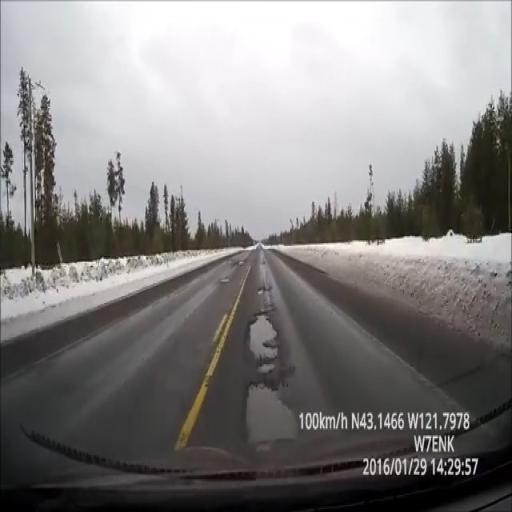Potholes: (246, 384, 298, 447), (246, 384, 298, 442), (249, 313, 282, 375)
